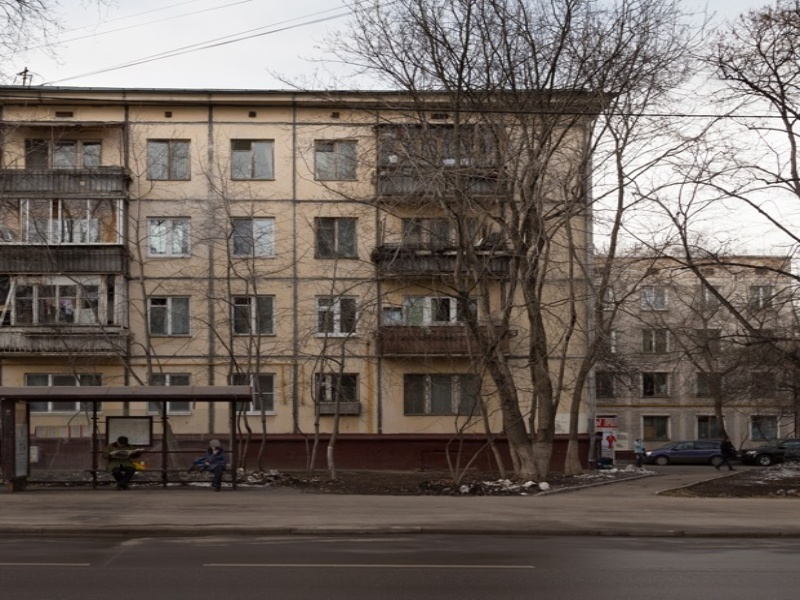window: (19, 196, 120, 246), (397, 367, 487, 423), (11, 281, 99, 321), (308, 288, 366, 343), (395, 290, 473, 329), (226, 286, 279, 342), (20, 135, 103, 167), (310, 370, 359, 421), (229, 218, 279, 264), (143, 137, 192, 182), (312, 136, 359, 182), (308, 214, 358, 257), (228, 373, 278, 415), (227, 139, 277, 179), (147, 294, 189, 338), (149, 215, 191, 256), (633, 319, 671, 353), (749, 277, 781, 310), (638, 375, 673, 401)
